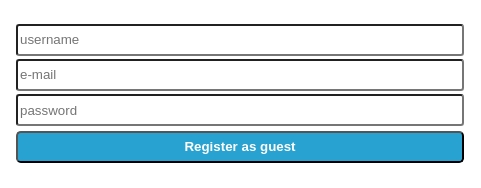
Test: App › render invalid email address message
Click the button "Register as guest" at (240, 147), box [16, 131, 464, 163]
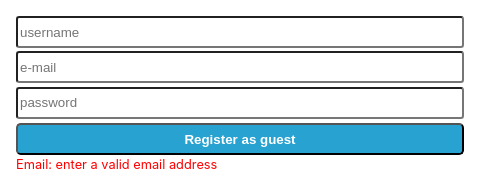
Check: the text "Email: enter a valid email address" is shown, box [16, 157, 217, 172]
